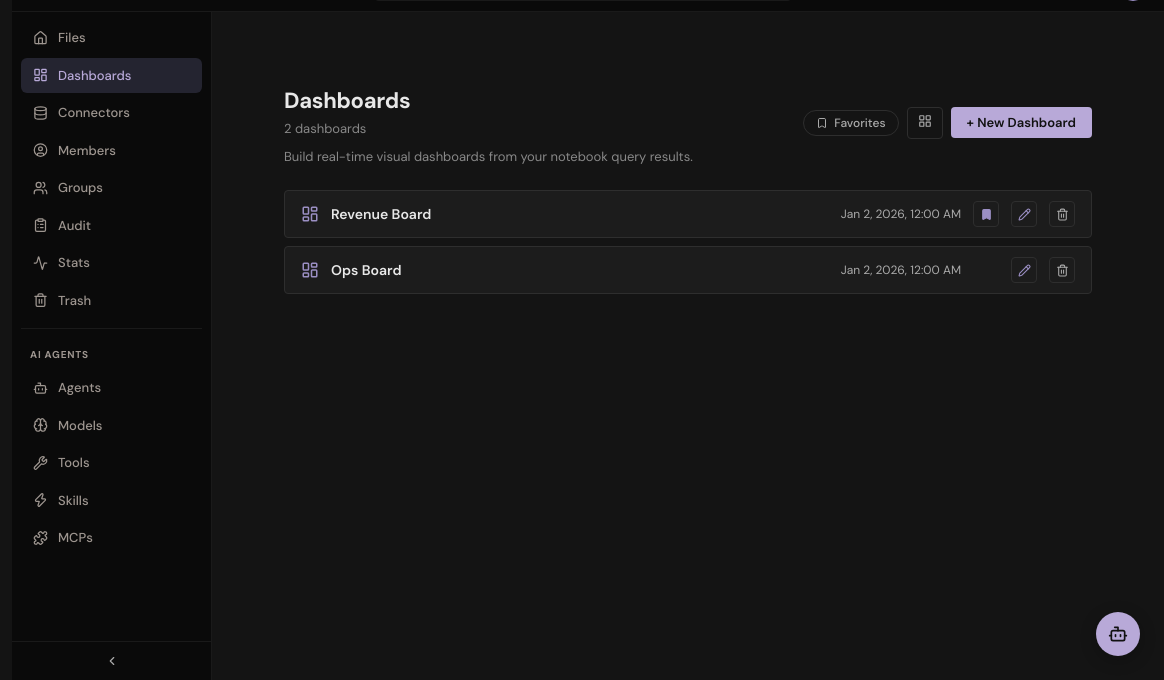
Scenario: DashboardsPage favorites filter (F3) › the chip filters rows through the favorites id set and syncs ?fav=1
Check: the text "Revenue Board" is shown, box left=331, top=204, right=431, bottom=224
Check: the text "Ops Board" is shown, box left=331, top=260, right=402, bottom=280
Click the button "Favorites". click: x=851, y=122
box: left=803, top=110, right=899, bottom=136
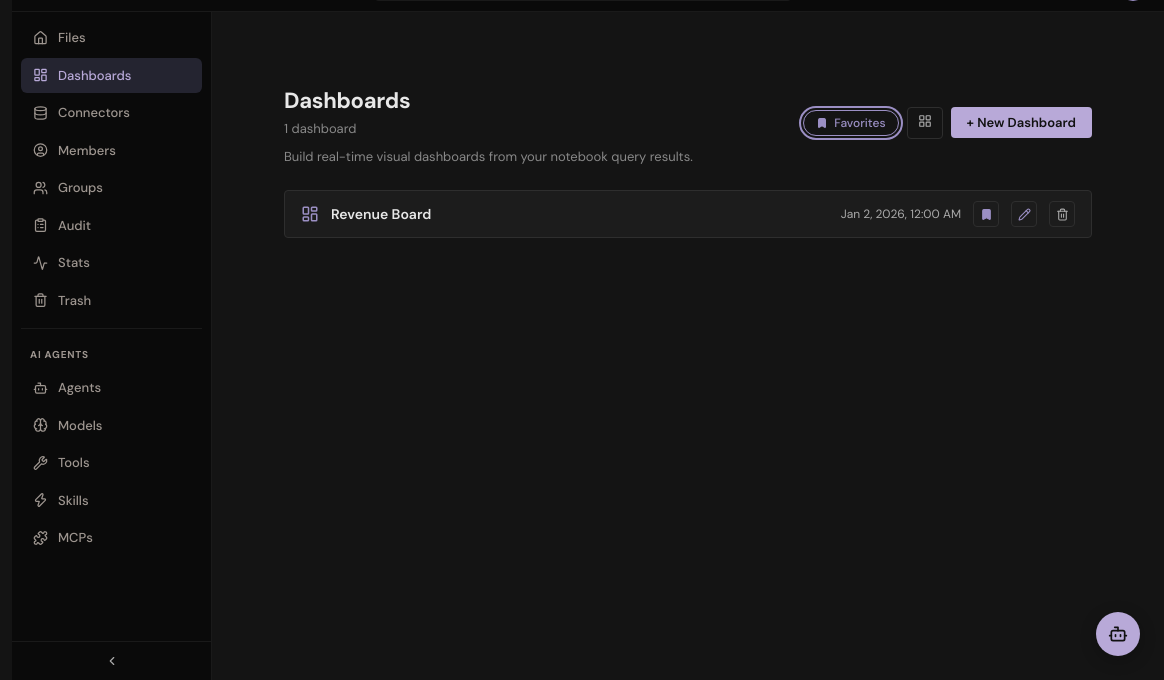
Check: the text "Revenue Board" is shown, box left=331, top=204, right=431, bottom=224
Check: the link "Ops Board" is gone
Click the button "Favorites". click: x=851, y=122
box: left=803, top=110, right=899, bottom=136
(page scrolled)
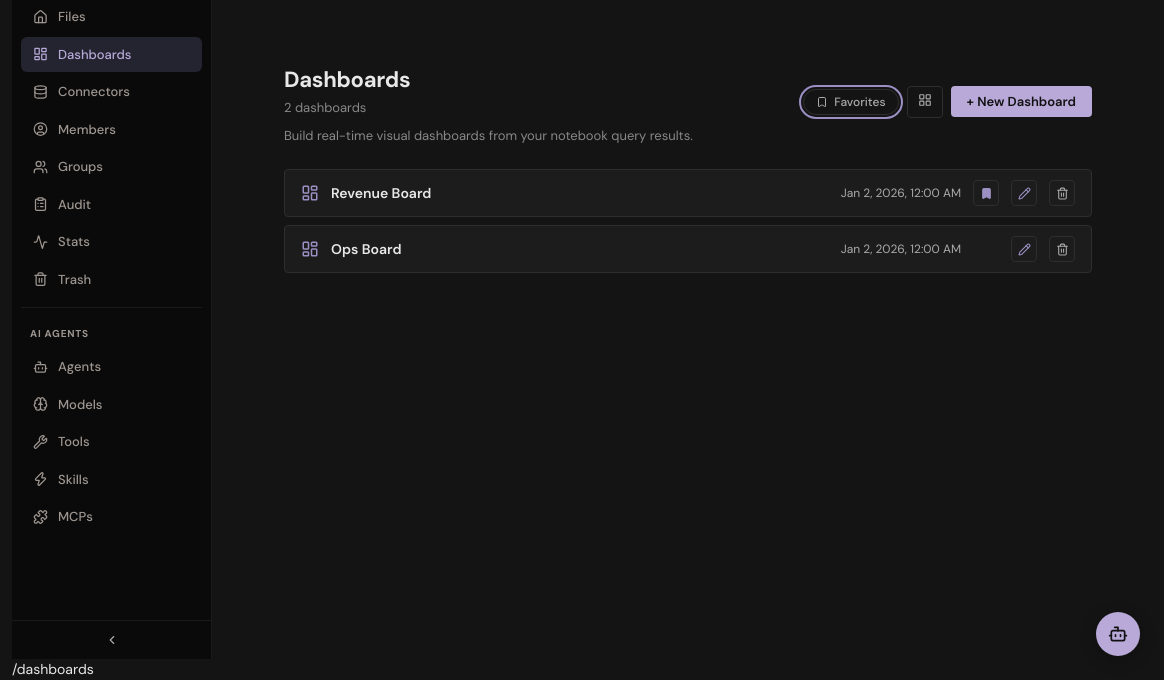
Check: the text "Ops Board" is shown, box left=331, top=238, right=402, bottom=260
Check: the text with test id "location" reads "/dashboards", box left=12, top=660, right=93, bottom=678
